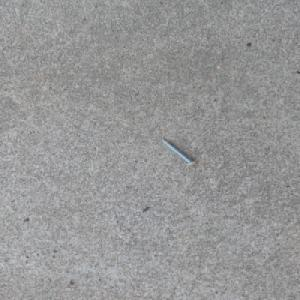Screw: (160, 138, 198, 166)
